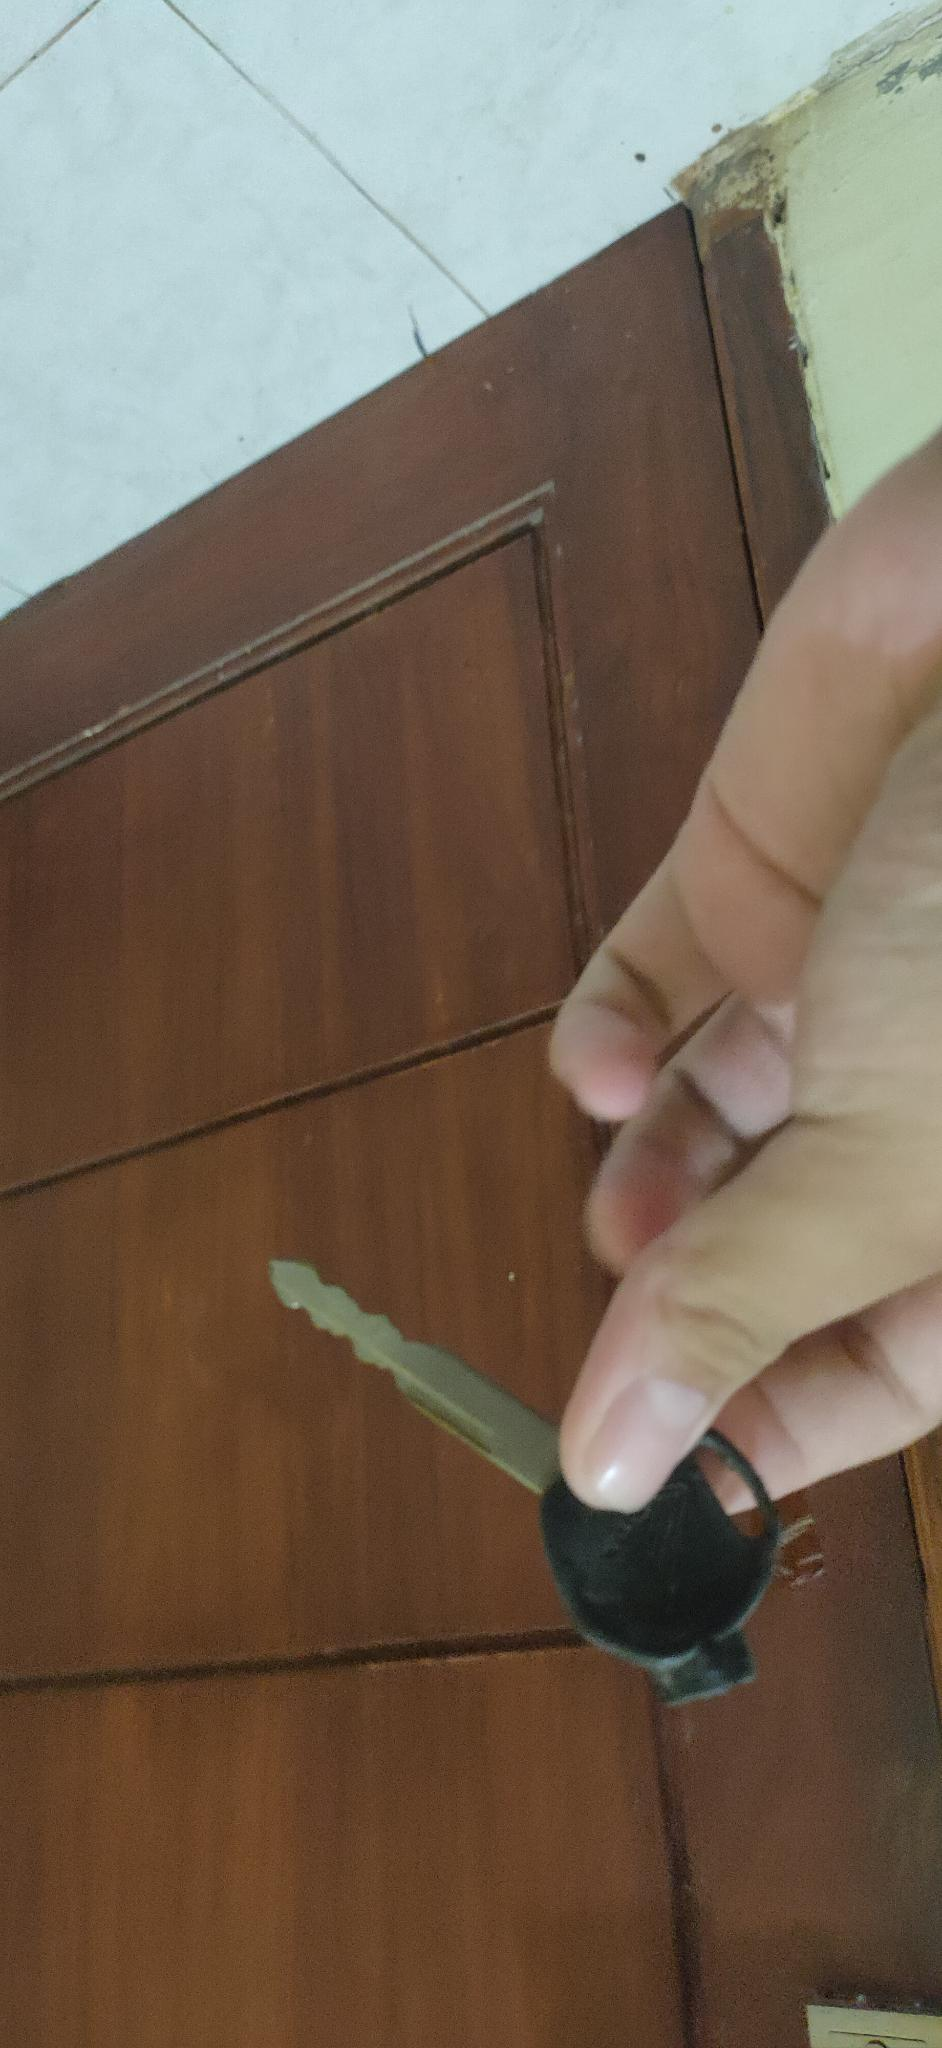keys: (256, 1229, 807, 1755)
